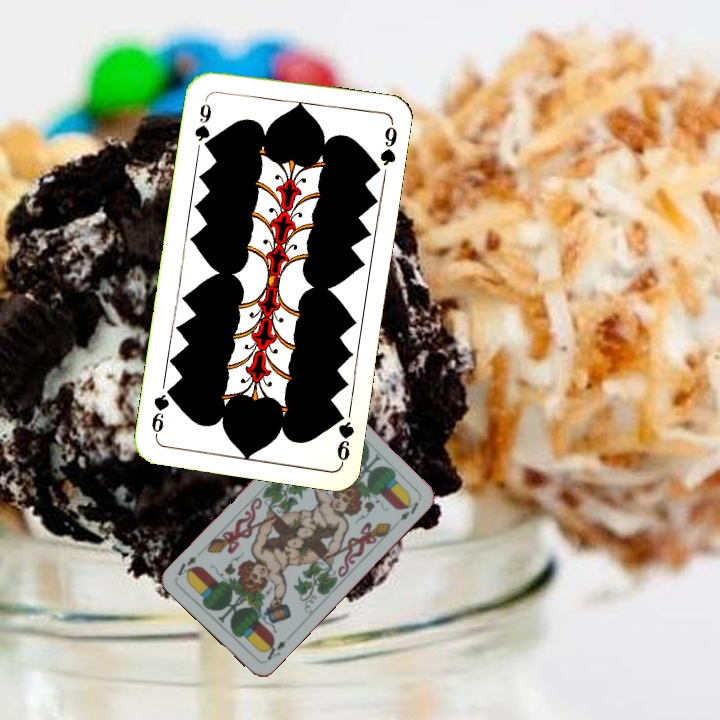EA: (260, 635, 290, 664)
G9: (331, 405, 357, 466), (190, 99, 214, 153)
